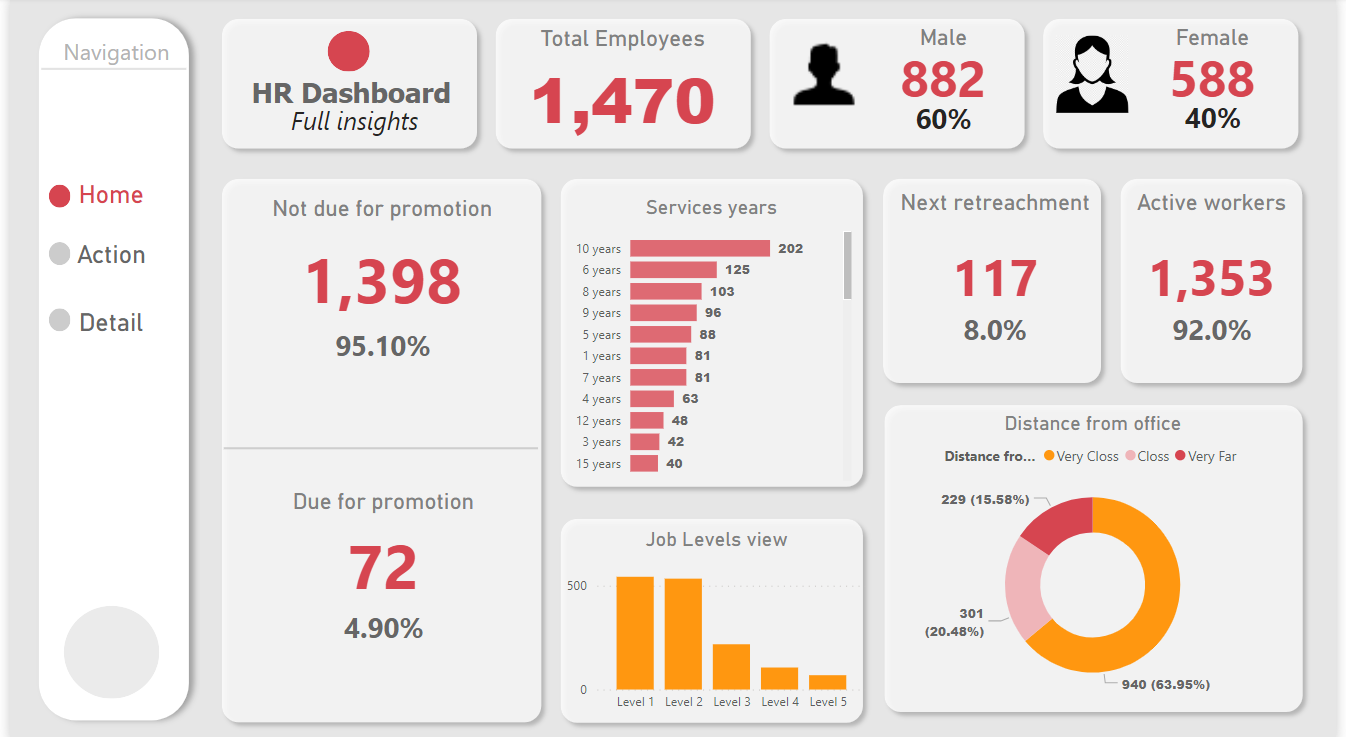

Layout of this report page (visuals, bound fields, positions):
{"tool":"powerbi","page":{"name":"Home","canvas":[1280,720],"ordinal":0},"visuals":[{"type":"shape","box":[16.5,9.6,166.5,699.2],"z":0},{"type":"shape","box":[195.4,12.4,264.3,143.1],"z":1000},{"type":"shape","box":[459.7,12.4,264.3,143.1],"z":2000},{"type":"shape","box":[724,12.4,264.3,143.1],"z":3000},{"type":"shape","box":[988.2,12.4,264.3,143.1],"z":4000},{"type":"shape","box":[195.4,166.5,326.2,542.3],"z":5000},{"type":"shape","box":[521.6,166.2,309.7,315.2],"z":6000},{"type":"shape","box":[521.6,494.1,309.7,214.7],"z":7000},{"type":"shape","box":[834.8,384.2,421.6,314.1],"z":8000},{"type":"shape","box":[833.6,166.7,228.3,215],"z":9000},{"type":"shape","box":[1063.1,166.7,193.3,215],"z":10000},{"type":"textbox","box":[209.7,71.2,238.7,51.4],"z":11000},{"type":"textbox","box":[36.9,33,130.5,51.4],"z":12000},{"type":"textbox","box":[209.7,97.6,251.9,55.4],"z":13000},{"type":"shape","box":[305.9,33,40.9,39.6],"z":14000},{"type":"card","title":"Total Employees","fields":{"Values":["All Measures.Total Emp"]},"box":[468,27.5,246.4,112.9],"z":15000},{"type":"card","title":"Male","fields":{"Values":["All Measures.Male"]},"box":[814.8,26.2,170.7,75.7],"z":16000},{"type":"card","fields":{"Values":["All Measures.Male %"]},"box":[834.1,90.8,132.1,55.1],"z":17000},{"type":"card","title":"Female","fields":{"Values":["All Measures.Female"]},"box":[1068.7,26.2,183.1,75.7],"z":18000},{"type":"card","fields":{"Values":["All Measures.Female %"]},"box":[1083.9,90.8,152.8,53.7],"z":19000},{"type":"image","box":[736.3,26.2,95,90.8],"z":20000},{"type":"actionButton","title":"Home","box":[27.8,176.4,140.1,30.2],"z":21000},{"type":"image","box":[1004.7,33,79.8,84],"z":22000},{"type":"actionButton","title":"Action","box":[27.7,233.4,139.8,56.7],"z":23000},{"type":"card","title":"Active workers","fields":{"Values":["All Measures.On service"]},"box":[1058.3,186,203,142.6],"z":24000},{"type":"actionButton","title":"Detail","box":[27.7,300.7,139.8,58],"z":25000},{"type":"card","fields":{"Values":["All Measures.% Active workers"]},"box":[1082.4,296,153.4,53.2],"z":26000},{"type":"card","title":"Next retreachment","fields":{"Values":["All Measures.Due for retirment"]},"box":[843.2,186,215,142.6],"z":27000},{"type":"card","fields":{"Values":["All Measures.%Due for retirment"]},"box":[865,296,171.5,53.2],"z":28000},{"type":"columnChart","title":"Job Levels view","fields":{"Category":["HR Analytics Data.Job Level"],"Y":["All Measures.Total Emp"]},"box":[531.3,512,300,185.8],"z":29000},{"type":"barChart","title":"Services years","fields":{"Category":["HR Analytics Data.Total working Years"],"Y":["All Measures.Total Emp"]},"box":[536.4,192.1,280.3,280.3],"z":30000},{"type":"donutChart","title":"Distance from office","fields":{"Category":["HR Analytics Data.Distance from office"],"Y":["All Measures.Total Emp"]},"box":[840.8,399.9,408.3,282.7],"z":31000},{"type":"card","title":"Not due for promotion","fields":{"Values":["All Measures.Not Due"]},"box":[207.8,192.1,303.2,130.5],"z":32000},{"type":"card","title":"Due for promotion","fields":{"Values":["All Measures.Due for promotion"]},"box":[209,473.8,303.2,119.6],"z":33000},{"type":"shape","box":[206.6,427.7,303.2,14.5],"z":34000},{"type":"card","fields":{"Values":["All Measures.% Not due for promotion"]},"box":[283.5,309.7,152.8,53.7],"z":35000},{"type":"card","fields":{"Values":["All Measures.% Due for promotion"]},"box":[285.1,582.5,152.2,53.2],"z":36000},{"type":"shape","box":[36.9,180.7,21.1,22.4],"z":37000},{"type":"shape","box":[36.9,236,21.1,22.4],"z":38000},{"type":"shape","box":[36.9,300.7,21.1,22.4],"z":39000},{"type":"shape","box":[51.4,586.8,92.3,89.7],"z":40000},{"type":"shape","box":[30.2,61.6,140.1,15.7],"z":41000}]}

Visuals, with their boxes in screenshot pixels (x1, y1, x2, y2), scaled from the page's 1280x720 canvas onto the 1346x737 screenshot:
shape: Rect(17, 10, 192, 726)
shape: Rect(205, 13, 483, 159)
shape: Rect(483, 13, 761, 159)
shape: Rect(761, 13, 1039, 159)
shape: Rect(1039, 13, 1317, 159)
shape: Rect(205, 170, 548, 726)
shape: Rect(548, 170, 874, 493)
shape: Rect(548, 506, 874, 726)
shape: Rect(878, 393, 1321, 715)
shape: Rect(877, 171, 1117, 391)
shape: Rect(1118, 171, 1321, 391)
textbox: Rect(221, 73, 472, 125)
textbox: Rect(39, 34, 176, 86)
textbox: Rect(221, 100, 485, 157)
shape: Rect(322, 34, 365, 74)
"Total Employees" card: Rect(492, 28, 751, 144)
"Male" card: Rect(857, 27, 1036, 104)
card - All Measures.Male %: Rect(877, 93, 1016, 149)
"Female" card: Rect(1124, 27, 1316, 104)
card - All Measures.Female %: Rect(1140, 93, 1300, 148)
image: Rect(774, 27, 874, 120)
"Home" actionButton: Rect(29, 181, 177, 211)
image: Rect(1057, 34, 1140, 120)
"Action" actionButton: Rect(29, 239, 176, 297)
"Active workers" card: Rect(1113, 190, 1326, 336)
"Detail" actionButton: Rect(29, 308, 176, 367)
card - All Measures.% Active workers: Rect(1138, 303, 1300, 357)
"Next retreachment" card: Rect(887, 190, 1113, 336)
card - All Measures.%Due for retirment: Rect(910, 303, 1090, 357)
"Job Levels view" columnChart: Rect(559, 524, 874, 714)
"Services years" barChart: Rect(564, 197, 859, 484)
"Distance from office" donutChart: Rect(884, 409, 1314, 699)
"Not due for promotion" card: Rect(219, 197, 537, 330)
"Due for promotion" card: Rect(220, 485, 539, 607)
shape: Rect(217, 438, 536, 453)
card - All Measures.% Not due for promotion: Rect(298, 317, 459, 372)
card - All Measures.% Due for promotion: Rect(300, 596, 460, 651)
shape: Rect(39, 185, 61, 208)
shape: Rect(39, 242, 61, 265)
shape: Rect(39, 308, 61, 331)
shape: Rect(54, 601, 151, 692)
shape: Rect(32, 63, 179, 79)
